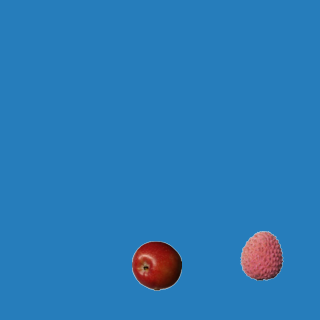Apple Braeburn: (131, 240, 181, 290)
Lychee: (236, 230, 286, 280)
